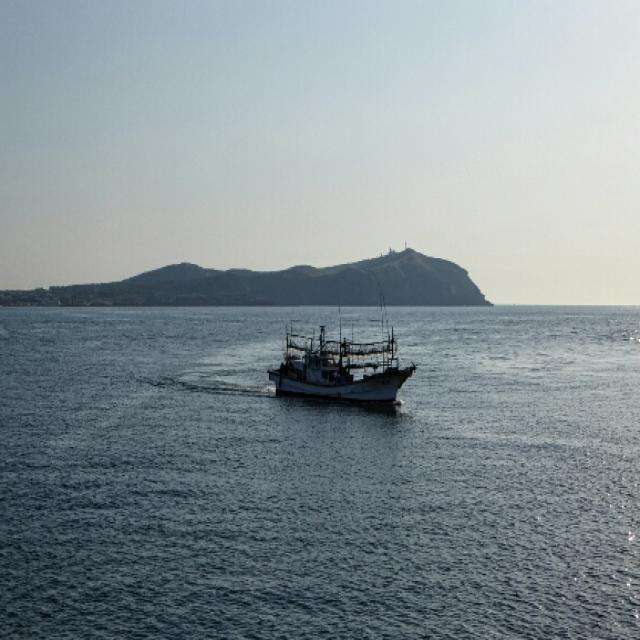fishing boat: (262, 319, 411, 409)
